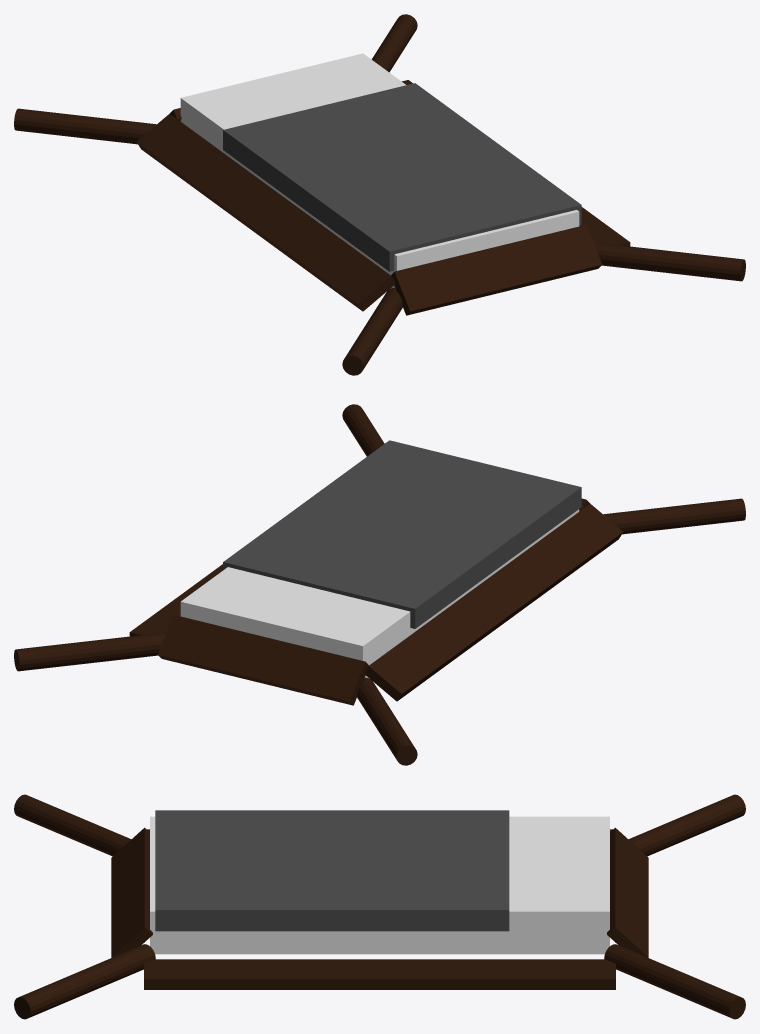
Rendered from BrokenBed.glb.
The picture shows the model from 3 angles, top to bottom: view 1: azimuth 30°, elevation 25°; view 2: azimuth 150°, elevation 25°; view 3: azimuth 270°, elevation 25°; orthographic projection. The views are drawn at different scales.
Parts seen in each view (by area): view 1: Cube, Cube.003, Cube.005, Cube.001, Cylinder.001, Cylinder.004, Cylinder.002, Cylinder.003, Cube.002; view 2: Cube, Cube.003, Cube.005, Cube.004, Cylinder.003, Cylinder.002, Cylinder.004, Cube.002, Cylinder.001; view 3: Cube, Cube.005, Cube.002, Cube.001, Cube.004, Cylinder.001, Cylinder.003, Cylinder.002, Cylinder.004.
Part boxes in pixels (x1,y1,x2,y2): Cube: [223, 83, 581, 271]; Cube.003: [136, 113, 394, 311]; Cube.005: [180, 53, 579, 288]; Cube.001: [391, 224, 602, 315]; Cylinder.001: [593, 242, 745, 281]; Cylinder.004: [14, 108, 156, 144]; Cylinder.002: [342, 287, 402, 375]; Cylinder.003: [372, 14, 417, 72]; Cube.002: [402, 80, 630, 246]; Cube: [223, 440, 581, 628]; Cube.003: [365, 503, 623, 701]; Cube.005: [180, 509, 579, 678]; Cube.004: [157, 614, 368, 705]; Cylinder.003: [14, 632, 166, 671]; Cylinder.002: [603, 498, 745, 534]; Cylinder.004: [357, 677, 417, 765]; Cube.002: [129, 564, 222, 636]; Cylinder.001: [342, 404, 384, 456]; Cube: [155, 810, 509, 931]; Cube.005: [150, 816, 609, 954]; Cube.002: [144, 959, 615, 989]; Cube.001: [111, 827, 152, 957]; Cube.004: [607, 827, 648, 957]; Cylinder.001: [14, 944, 155, 1019]; Cylinder.003: [604, 944, 745, 1019]; Cylinder.002: [14, 794, 131, 856]; Cylinder.004: [628, 794, 745, 856].
Size of the model in its own units: 2.1 by 0.2687 by 3.1.
